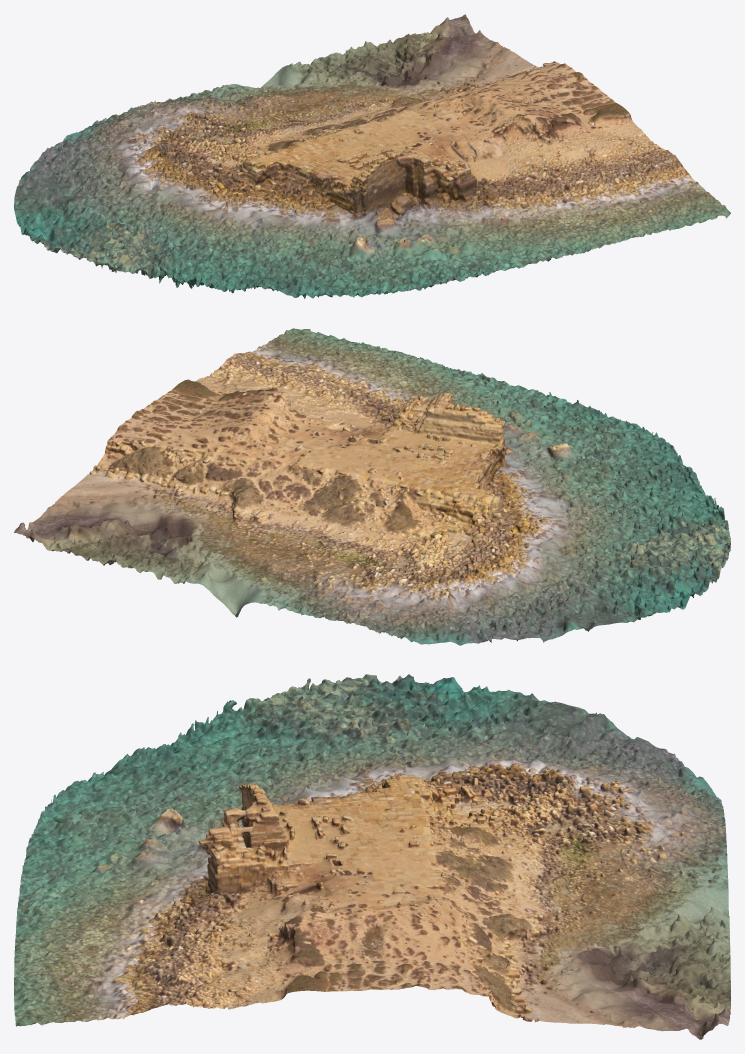
3 renders of one model, top to bottom at view 1: azimuth 30°, elevation 25°; view 2: azimuth 150°, elevation 25°; view 3: azimuth 270°, elevation 25°, orthographic. The views are drawn at different scales.
Parts seen in each view (by area): view 1: LBY_002_M7_Lighthouse; view 2: LBY_002_M7_Lighthouse; view 3: LBY_002_M7_Lighthouse.
Boxes of the visible parts, x1,y1,x2,y2 form: LBY_002_M7_Lighthouse: [14, 14, 730, 298]; LBY_002_M7_Lighthouse: [14, 328, 730, 645]; LBY_002_M7_Lighthouse: [14, 674, 730, 1039].
Size of the model in its own units: 130 by 19.85 by 111.
Materials: 1 (1 with a texture image).
